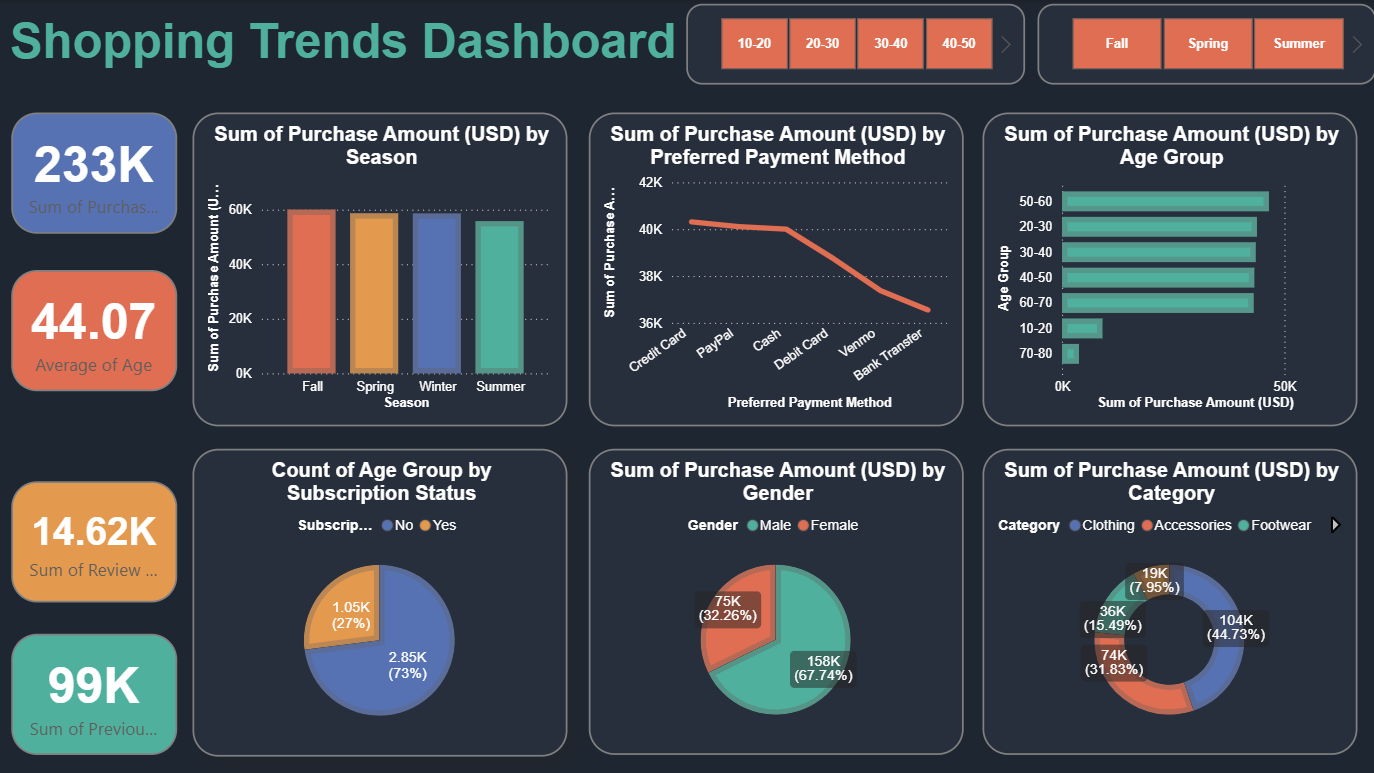

Layout of this report page (visuals, bound fields, positions):
{"tool":"powerbi","page":{"name":"Page 2","canvas":[1280,720],"ordinal":1},"visuals":[{"type":"barChart","fields":{"Category":["Main Table.Age Group"],"Y":["Sum(Main Table.Purchase Amount (USD))"]},"box":[914,104.7,348.8,291.9],"z":0},{"type":"columnChart","fields":{"Y":["Sum(Main Table.Purchase Amount (USD))"],"Category":["Main Table.Season"]},"box":[179.1,104.7,348.8,291.9],"z":1000},{"type":"pieChart","fields":{"Category":["Main Table.Subscription Status"],"Y":["CountNonNull(Main Table.Age Group)"]},"box":[179.1,417.4,348.8,286],"z":2000},{"type":"pieChart","fields":{"Category":["Main Table.Gender"],"Y":["Sum(Main Table.Purchase Amount (USD))"]},"box":[547.7,417.4,348.8,284.9],"z":3000},{"type":"donutChart","fields":{"Category":["Main Table.Category"],"Y":["Sum(Main Table.Purchase Amount (USD))"]},"box":[914,417.4,348.8,284.9],"z":4000},{"type":"lineChart","fields":{"Category":["Main Table.Preferred Payment Method"],"Y":["Sum(Main Table.Purchase Amount (USD))"]},"box":[547.7,104.7,348.8,291.9],"z":5000},{"type":"card","fields":{"Values":["Avg(Main Table.Age)"]},"box":[10.5,251.2,154.7,112.8],"z":6000},{"type":"card","fields":{"Values":["Sum(Main Table.Review Rating)"]},"box":[10.5,447.7,154.7,112.8],"z":7000},{"type":"card","fields":{"Values":["Sum(Main Table.Previous Purchases)"]},"box":[10.5,589.5,154.7,112.8],"z":8000},{"type":"card","fields":{"Values":["Sum(Main Table.Purchase Amount (USD))"]},"box":[10.5,104.7,154.7,112.8],"z":9000},{"type":"textbox","title":"Shopping Trends Dashboard","box":[0,12.8,638.4,58.1],"z":10000},{"type":"slicer","fields":{"Values":["Main Table.Age Group"]},"box":[638.4,3.5,315.1,75.6],"z":11000},{"type":"slicer","fields":{"Values":["Main Table.Season"]},"box":[965.1,3.5,315.1,75.6],"z":12000}]}

Visuals, with their boxes in screenshot pixels (x1, y1, x2, y2), scaled from the page's 1280x720 canvas onto the 1374x773 screenshot:
barChart - Main Table.Age Group x Sum(Main Table.Purchase Amount (USD)): x1=981 y1=112 x2=1356 y2=426
columnChart - Sum(Main Table.Purchase Amount (USD)) x Main Table.Season: x1=192 y1=112 x2=567 y2=426
pieChart - Main Table.Subscription Status x CountNonNull(Main Table.Age Group): x1=192 y1=448 x2=567 y2=755
pieChart - Main Table.Gender x Sum(Main Table.Purchase Amount (USD)): x1=588 y1=448 x2=962 y2=754
donutChart - Main Table.Category x Sum(Main Table.Purchase Amount (USD)): x1=981 y1=448 x2=1356 y2=754
lineChart - Main Table.Preferred Payment Method x Sum(Main Table.Purchase Amount (USD)): x1=588 y1=112 x2=962 y2=426
card - Avg(Main Table.Age): x1=11 y1=270 x2=177 y2=391
card - Sum(Main Table.Review Rating): x1=11 y1=481 x2=177 y2=602
card - Sum(Main Table.Previous Purchases): x1=11 y1=633 x2=177 y2=754
card - Sum(Main Table.Purchase Amount (USD)): x1=11 y1=112 x2=177 y2=234
"Shopping Trends Dashboard" textbox: x1=0 y1=14 x2=685 y2=76
slicer - Main Table.Age Group: x1=685 y1=4 x2=1024 y2=85
slicer - Main Table.Season: x1=1036 y1=4 x2=1373 y2=85
